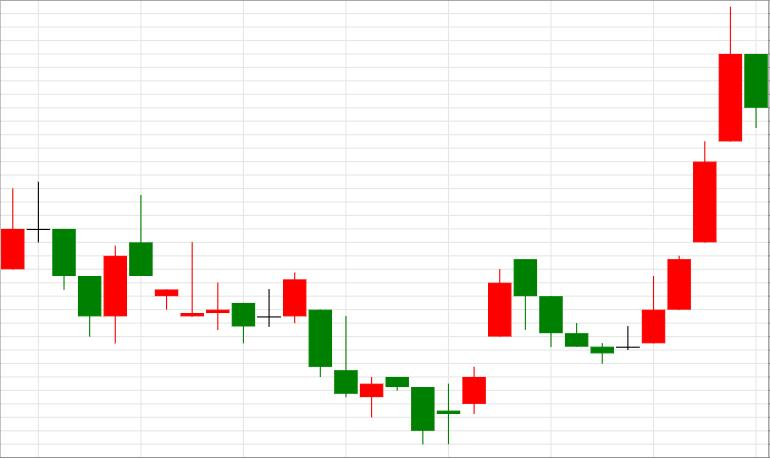three_white_soldiers_rise: (515, 7, 741, 365)
